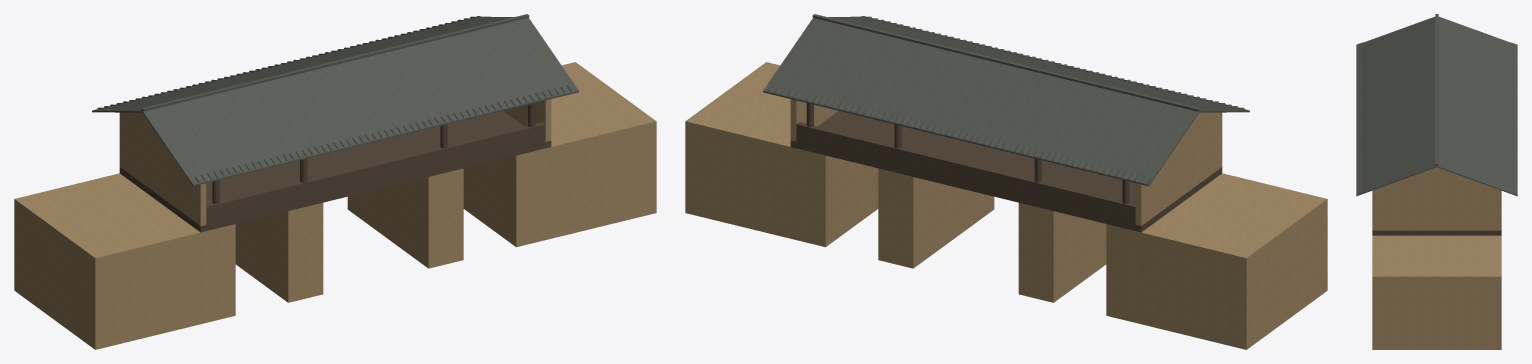
Rendered from gate-A-LOD1.glb.
3 views of the same model, side by side, from view 1: azimuth 30°, elevation 25°; view 2: azimuth 150°, elevation 25°; view 3: azimuth 270°, elevation 25° (orthographic). The views are drawn at different scales.
Parts seen in each view (by area): view 1: gate-A-static_earth, gate-A-static_tile, gate-A-static_timber; view 2: gate-A-static_earth, gate-A-static_tile, gate-A-static_timber; view 3: gate-A-static_tile, gate-A-static_earth, gate-A-static_timber.
Boxes of the visible parts, x1,y1,x2,y2 form: gate-A-static_earth: [14, 62, 656, 349]; gate-A-static_tile: [92, 14, 578, 186]; gate-A-static_timber: [119, 103, 551, 232]; gate-A-static_earth: [685, 62, 1327, 349]; gate-A-static_tile: [763, 14, 1249, 186]; gate-A-static_timber: [790, 103, 1222, 232]; gate-A-static_tile: [1356, 14, 1517, 196]; gate-A-static_earth: [1372, 167, 1501, 349]; gate-A-static_timber: [1372, 230, 1501, 235].
Bounding box in the file's own units: 32 × 10.36 × 10.
Materials: 3 (3 with a texture image).
